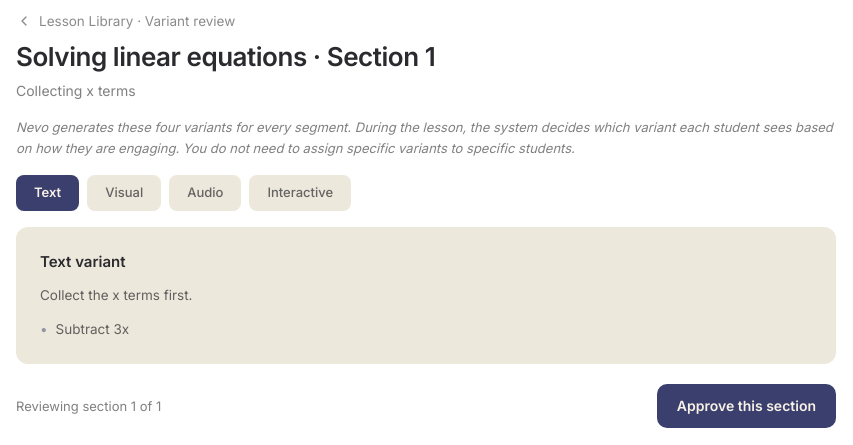
Test: a signed-in teacher's own lesson › says which variant is missing rather than showing an empty card
Step 1. Click the tab "Audio" → click(205, 193), box [169, 175, 241, 211]
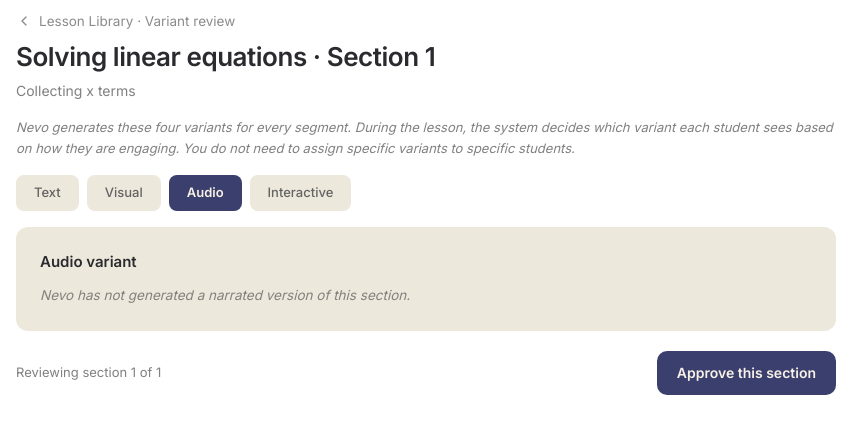
Expected: the text "Nevo has not generated a narrated version of this section." is shown, [40, 287, 410, 303]
